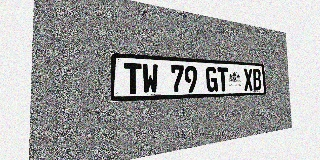7: (170, 65, 184, 93)
9: (184, 66, 198, 93)
B: (252, 69, 262, 90)
G: (206, 67, 218, 92)
T: (124, 63, 142, 95), (217, 67, 229, 92)
W: (142, 63, 158, 94)
X: (243, 68, 253, 91)
